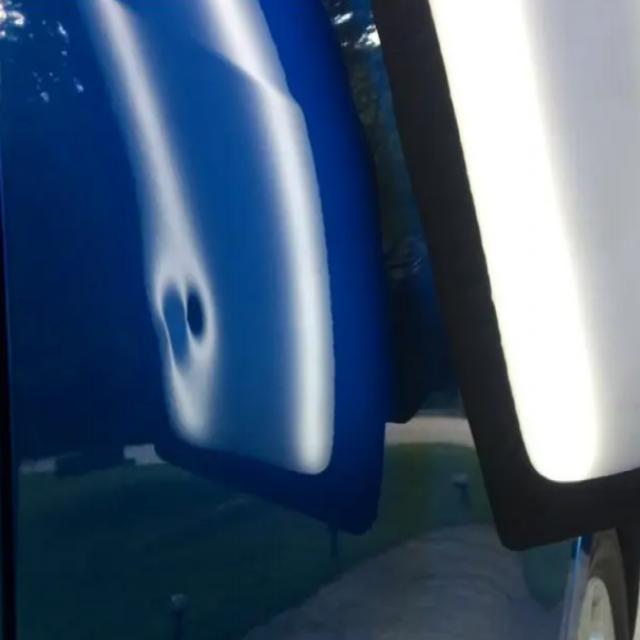dents: (153, 280, 215, 376)
